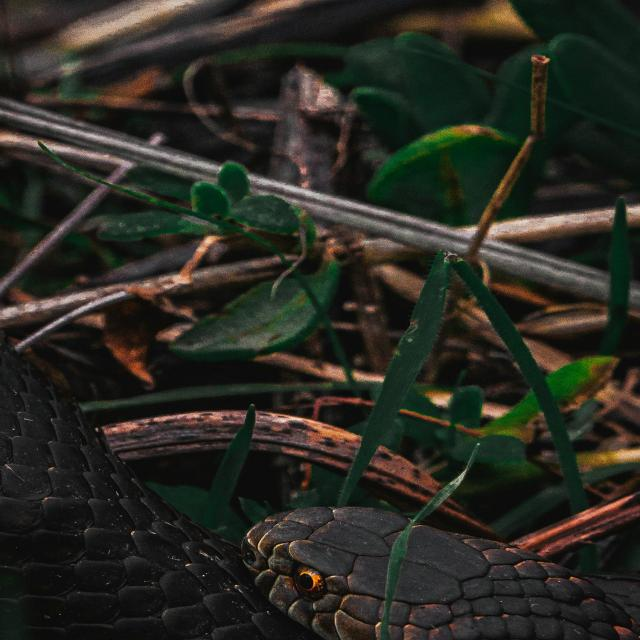snake: (0, 51, 640, 640)
